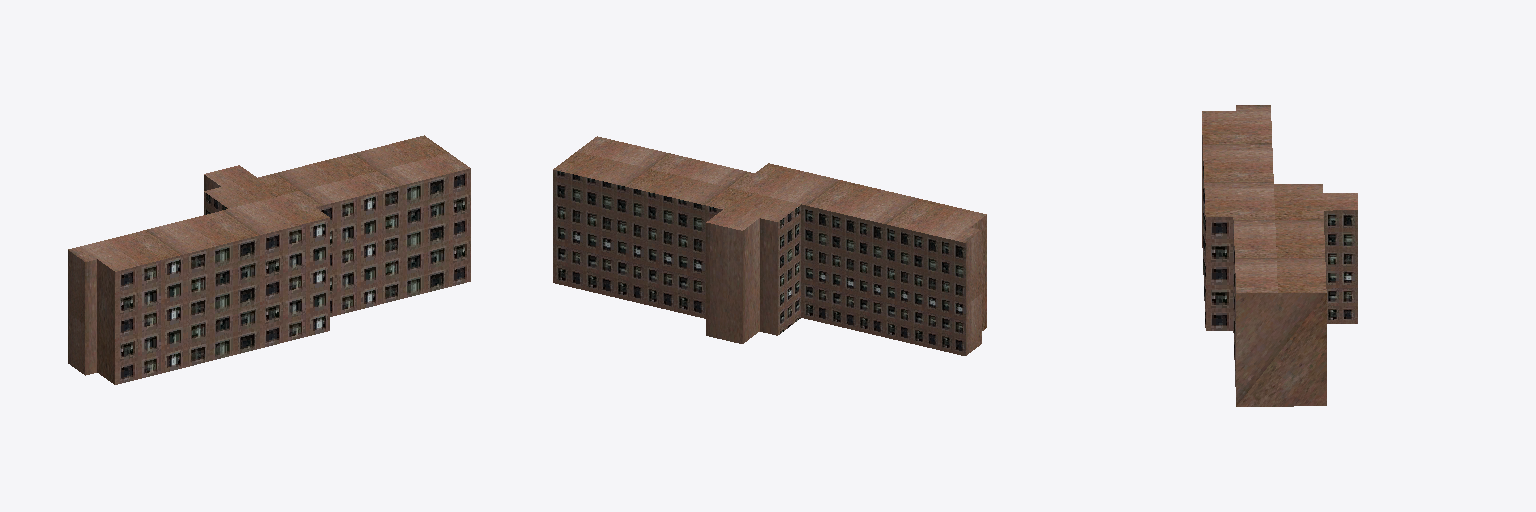
3 renders of one model, left to right at view 1: azimuth 30°, elevation 25°; view 2: azimuth 150°, elevation 25°; view 3: azimuth 270°, elevation 25°, orthographic.
Visible parts, largest first — view 1: VMtl1703, VMtl1705; view 2: VMtl1703, VMtl1705; view 3: VMtl1705, VMtl1703.
Boxes of the visible parts, x1=… form: VMtl1703: x1=115, y1=168, x2=470, y2=384; VMtl1705: x1=68, y1=135, x2=469, y2=384; VMtl1703: x1=553, y1=170, x2=965, y2=355; VMtl1705: x1=553, y1=136, x2=986, y2=355; VMtl1705: x1=1202, y1=105, x2=1357, y2=406; VMtl1703: x1=1202, y1=135, x2=1357, y2=386.
Size of the model in its own units: 77.27 by 21.7 by 27.18.
Materials: 3 (2 with a texture image).